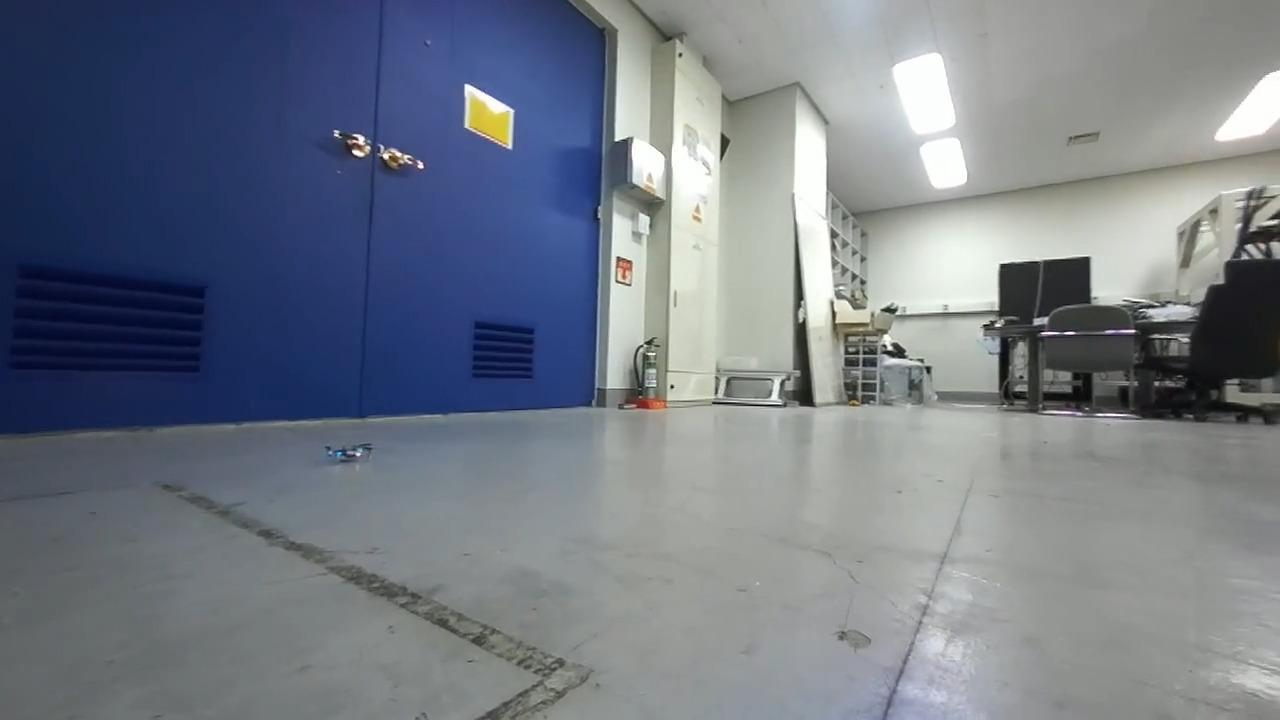crazyflie: (320, 436, 375, 466)
